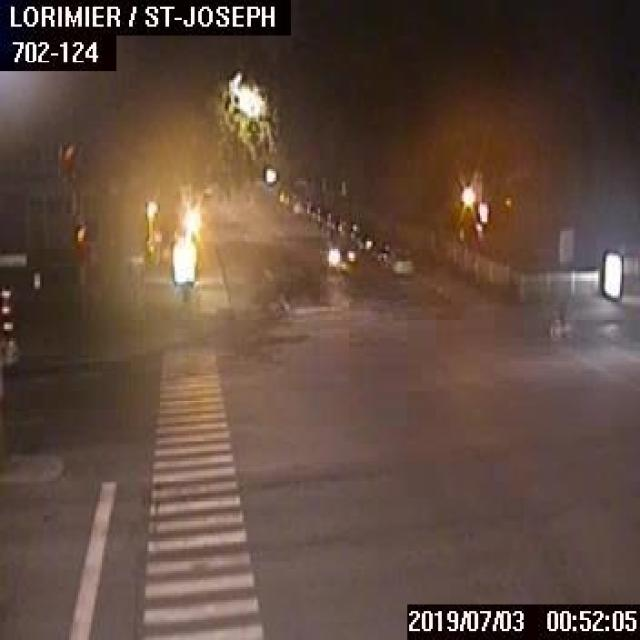vehicle: (317, 237, 354, 271), (391, 252, 412, 271)
